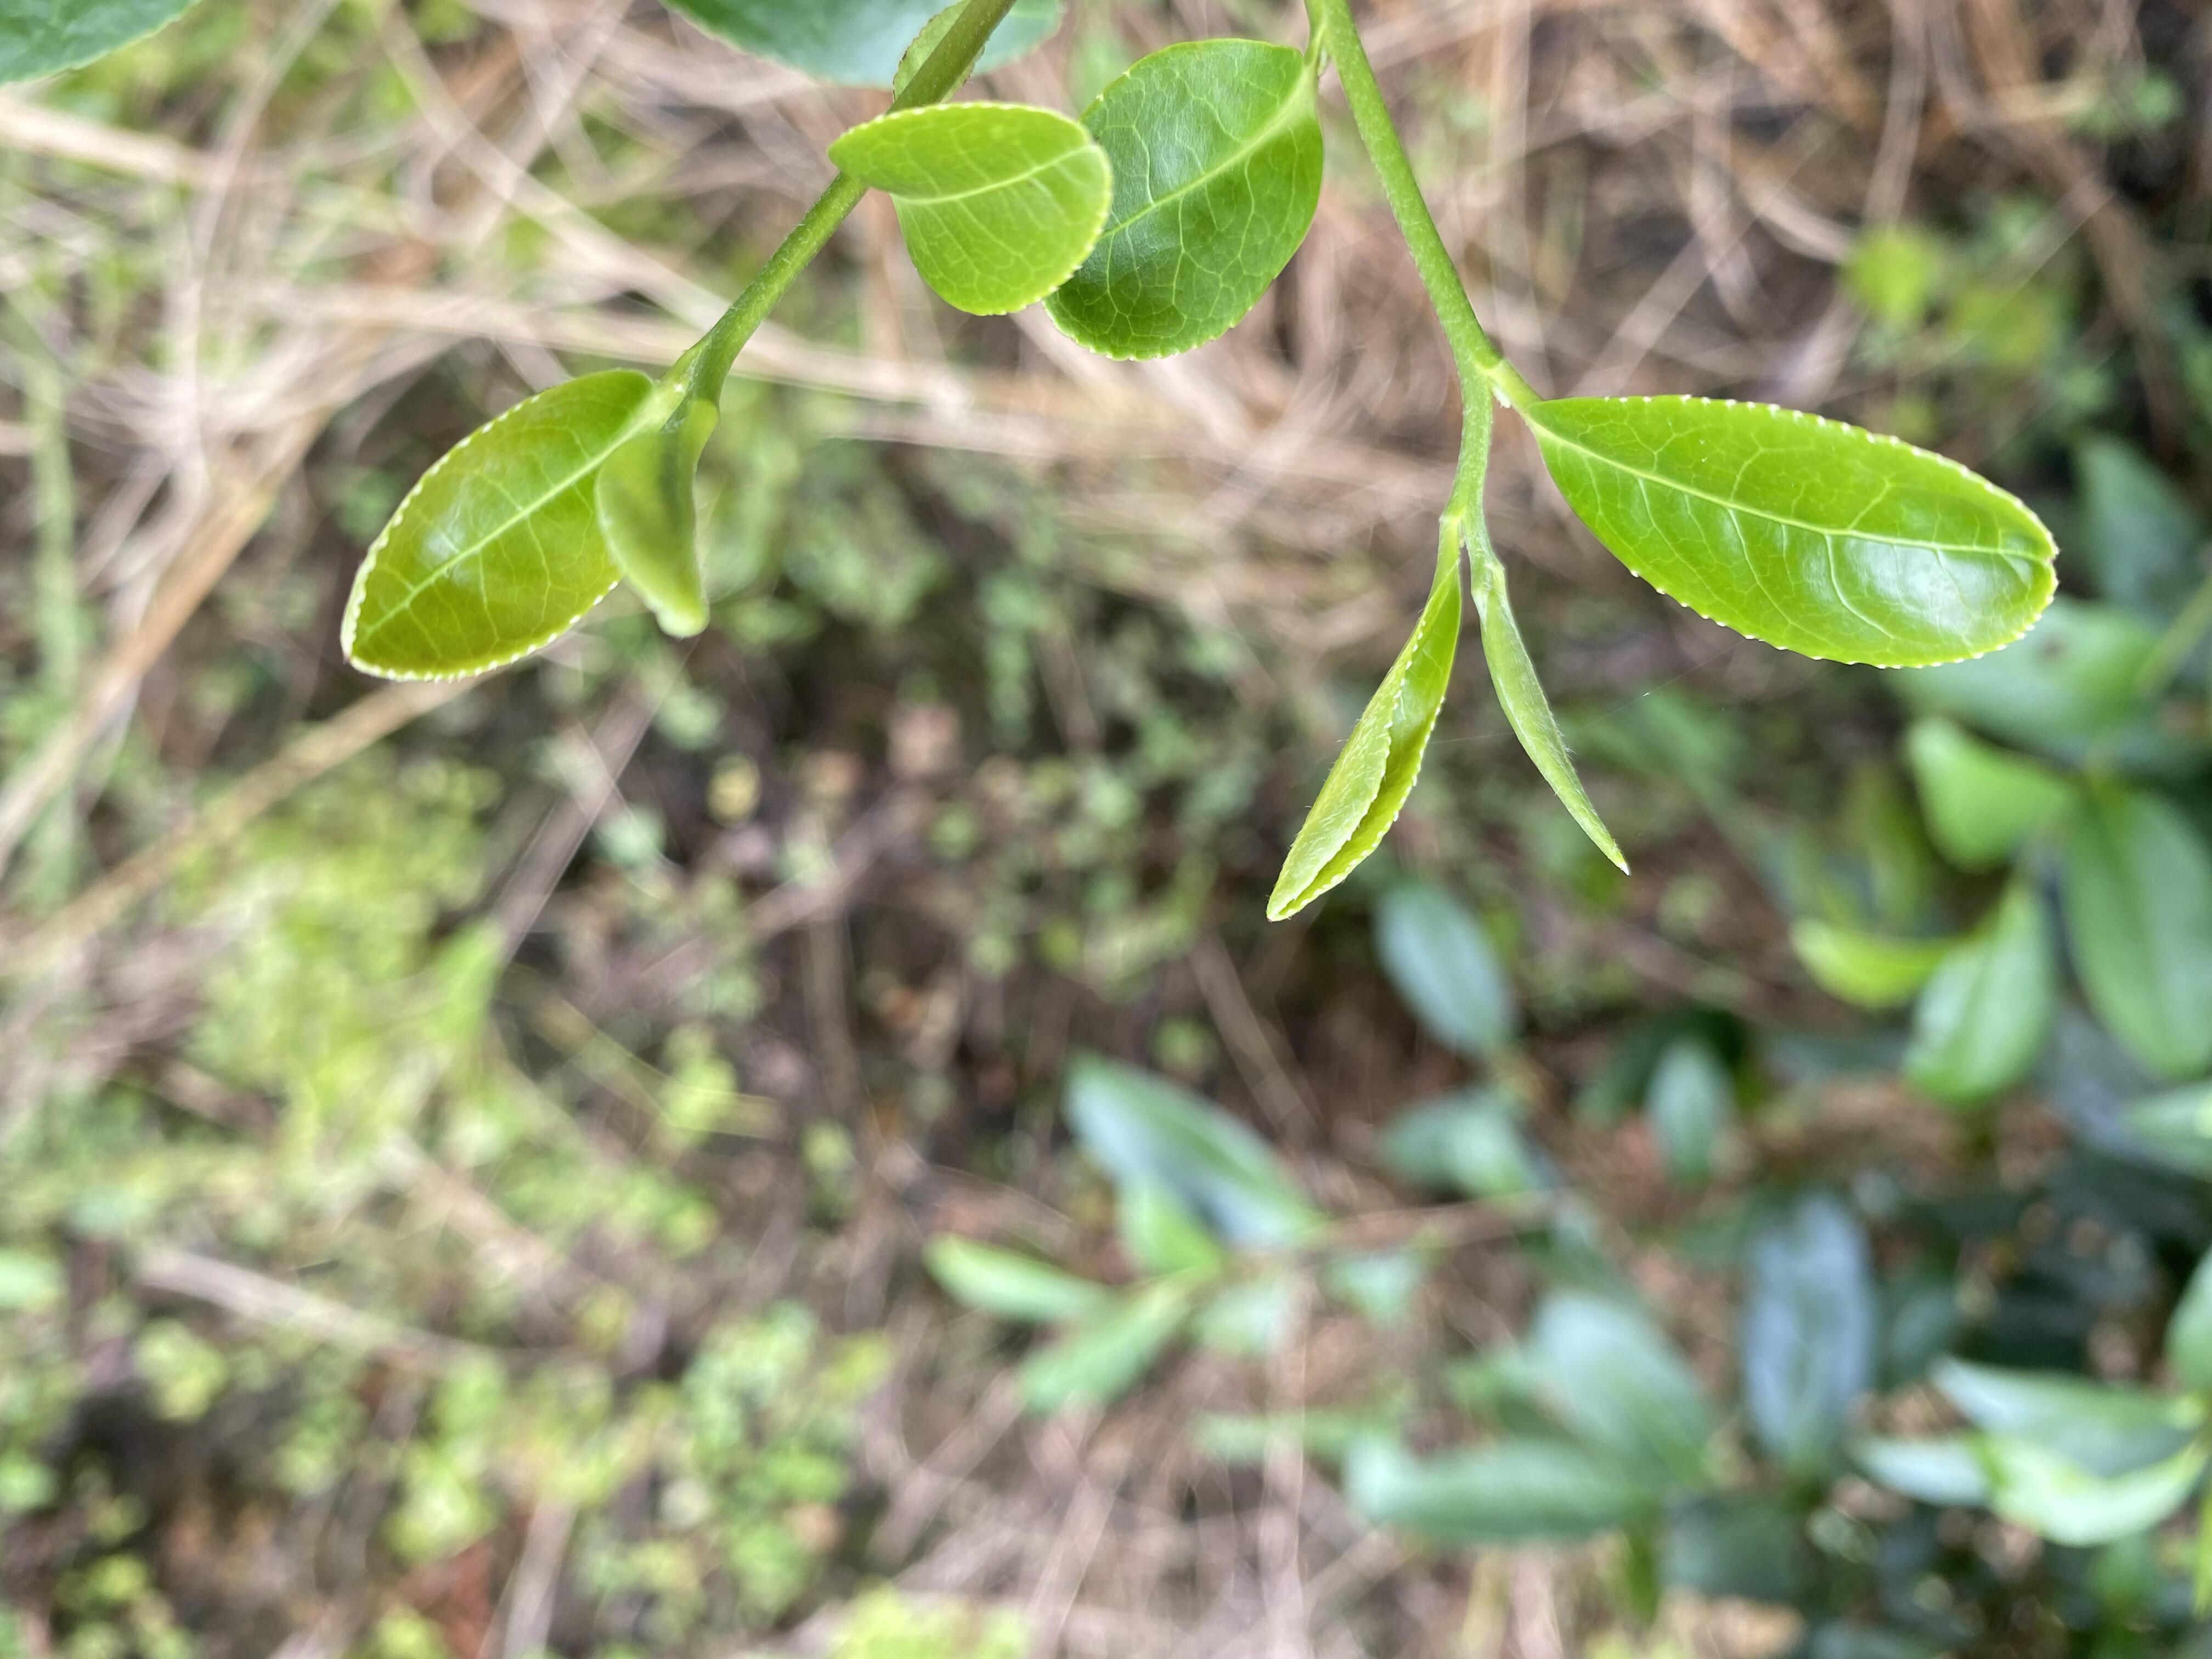healthy: (1531, 392, 2059, 669), (331, 368, 667, 681), (1042, 37, 1325, 359), (826, 105, 1108, 324)
